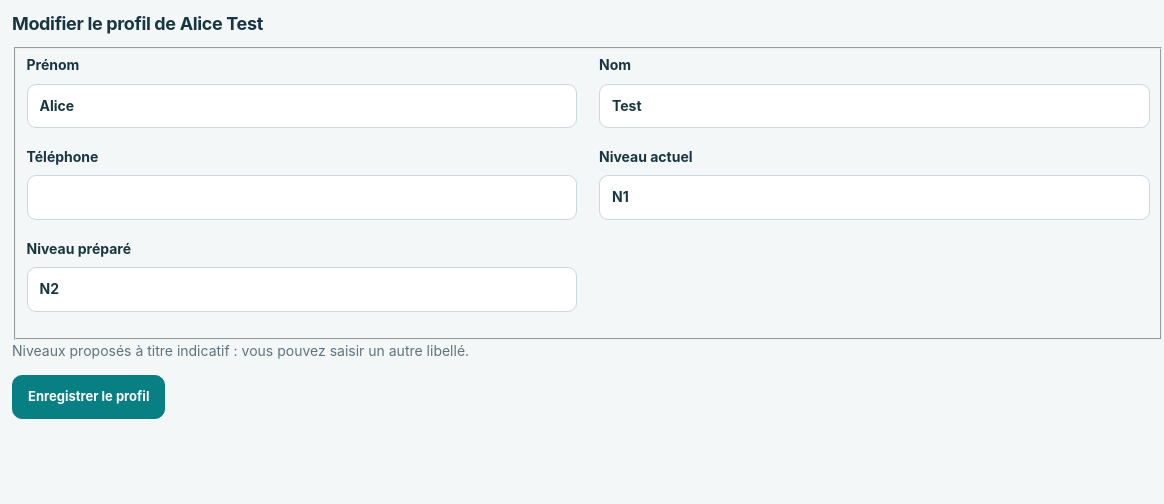
it: saves the selected member and free-text levels, retaining input on a server refusal
This screenshot has width=1164, height=504.
Replace the text in the field labelled "Niveau actuel" with "Qualification libre". click: (874, 198)
box: [599,176,1150,220]
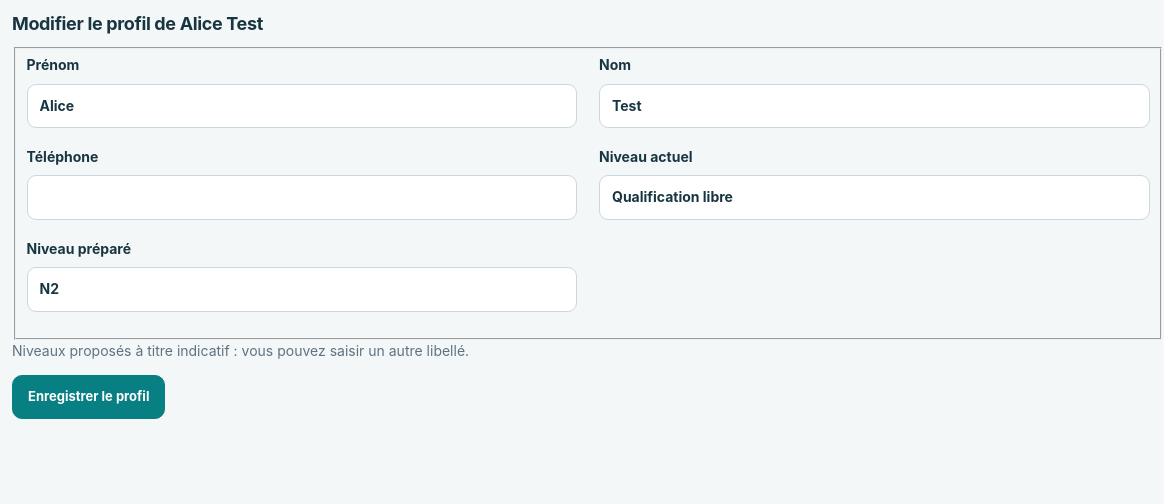
Click the button "Enregistrer le profil". click: (89, 397)
box: [12,375,165,419]
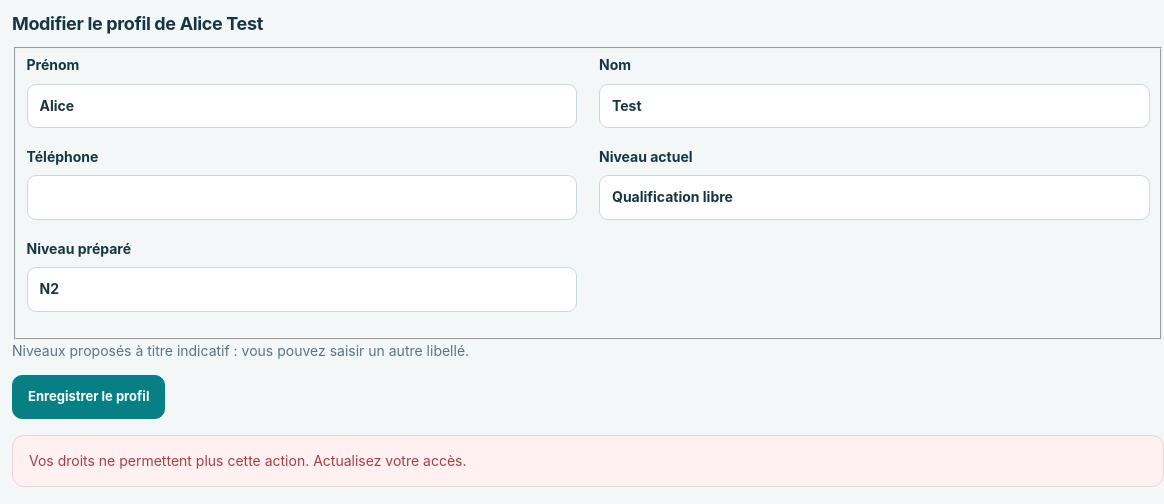
Check: the message "Vos droits ne permettent plus cette action. Actualisez votre accès." is shown, box [12,435,1163,487]
